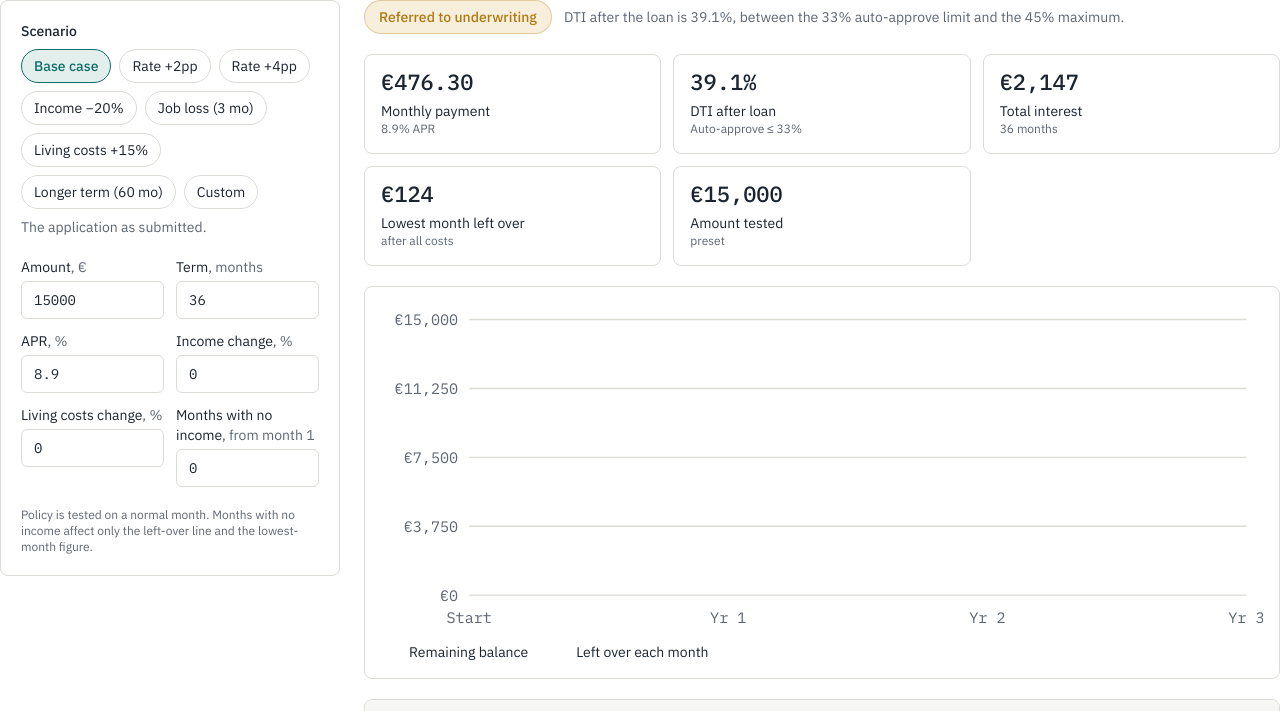
Test: ScenarioLab › recomputes the outcome when presets change
This screenshot has width=1280, height=711.
Expected: the element with test id "scenario-outcome" shows "Referred to underwriting", top-left (379, 8), bottom-right (537, 26)
Click the button "Longer term (60 mo)": (98, 192) top-left (21, 175), bottom-right (176, 209)
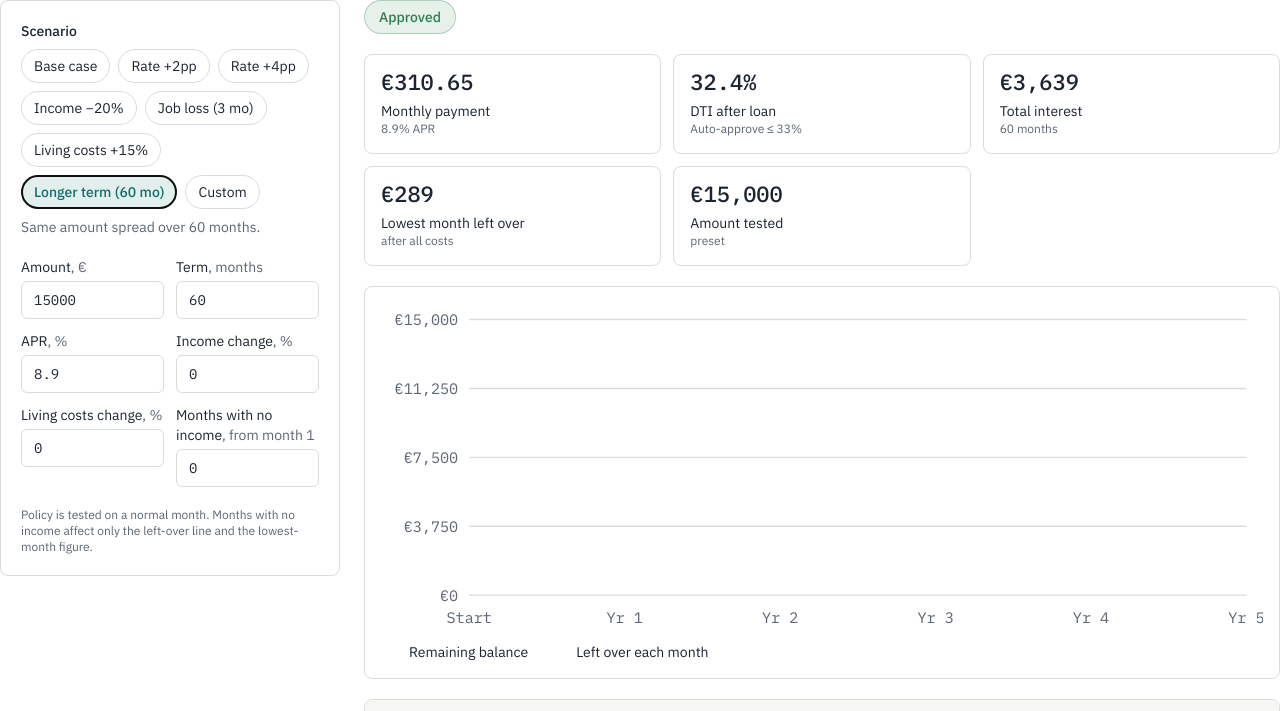
Expected: the element with test id "scenario-outcome" reads "Approved", top-left (379, 8), bottom-right (441, 26)
Click the button "Income −20%": (79, 108) top-left (21, 91), bottom-right (137, 125)
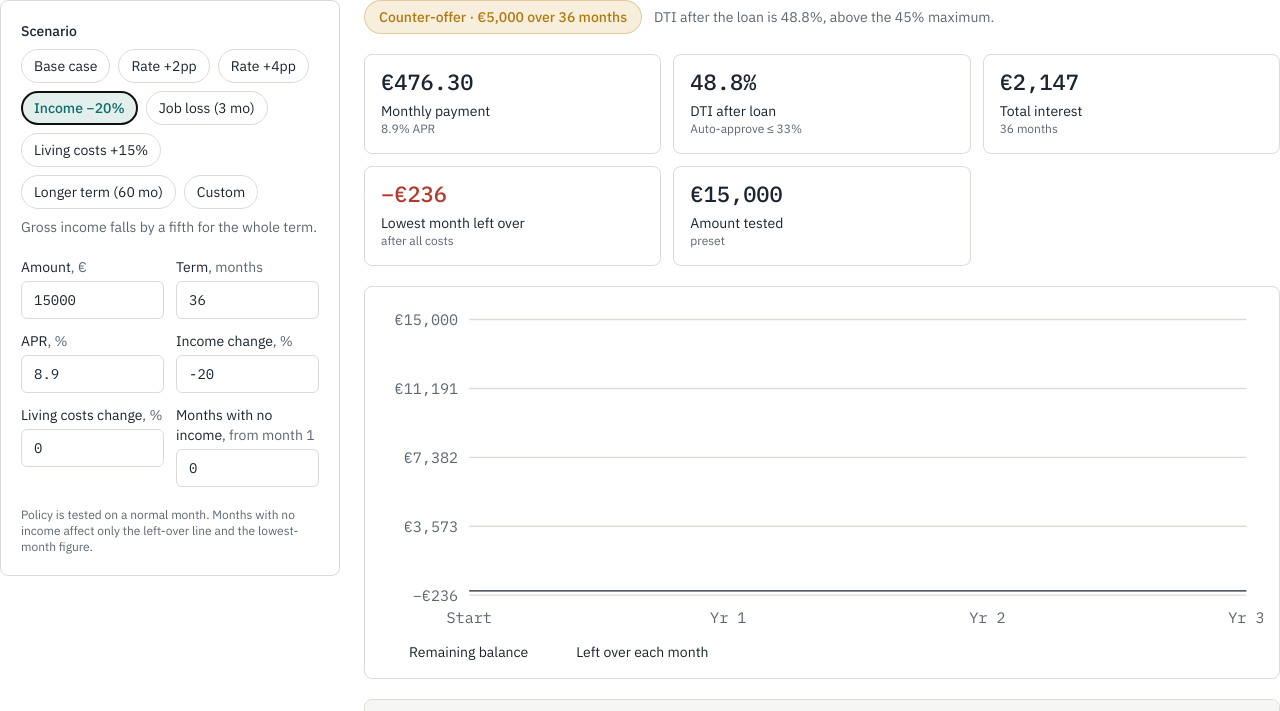
Expected: the element with test id "scenario-outcome" shows "Counter-offer", top-left (379, 8), bottom-right (466, 26)
Expected: the element with test id "scenario-outcome" shows "€5,000", top-left (466, 8), bottom-right (627, 26)
